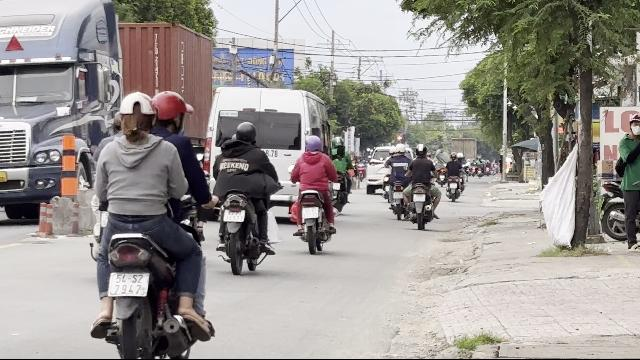helmet: (116, 91, 156, 137), (150, 90, 188, 132), (234, 121, 256, 145), (303, 134, 323, 154)
licenseplate: (108, 272, 148, 296), (224, 210, 244, 221), (302, 206, 318, 218)
motorcyclist: (82, 88, 216, 358), (210, 119, 280, 273), (287, 134, 339, 253)
